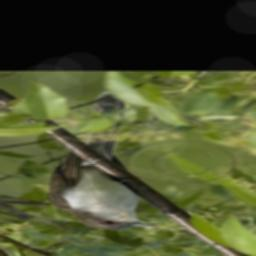Cuckoo: (50, 109, 160, 234)
